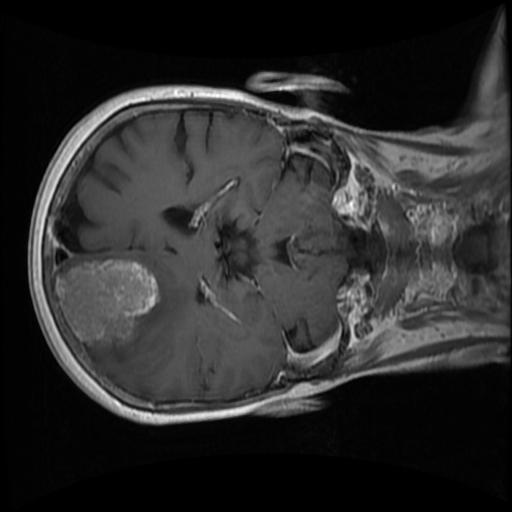meningioma: (55, 258, 159, 348)
